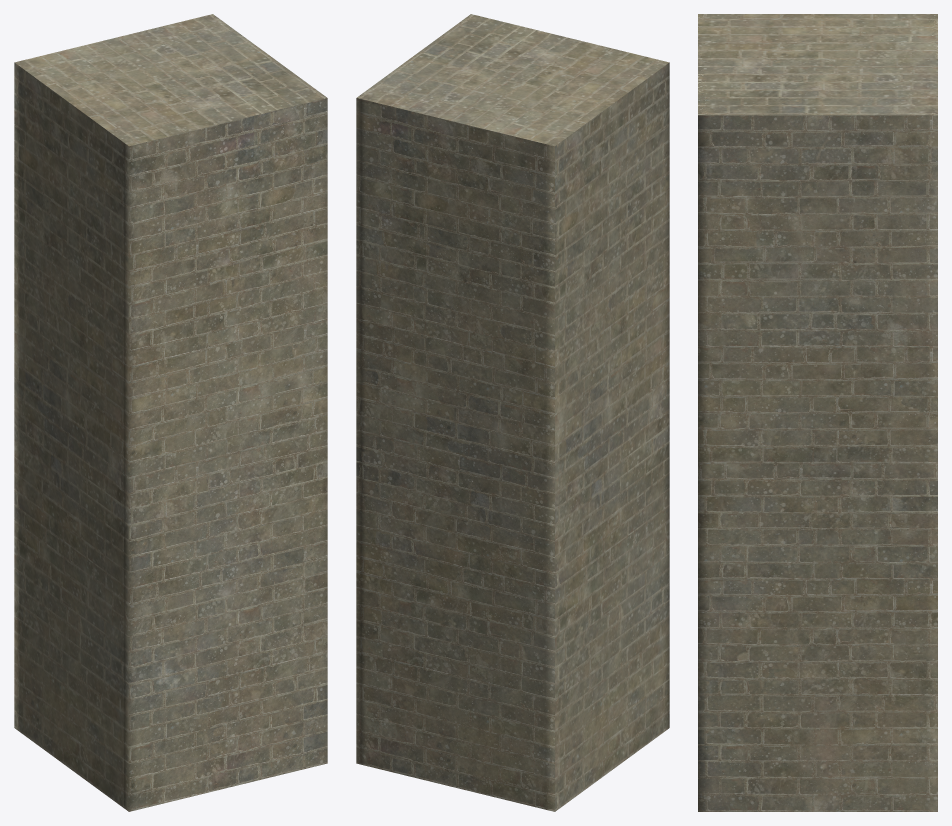
File: SM_WallColumn01_LOD0_002.glb
3 renders of one model, left to right at view 1: azimuth 30°, elevation 25°; view 2: azimuth 150°, elevation 25°; view 3: azimuth 270°, elevation 25°, orthographic. The views are drawn at different scales.
Parts seen in each view (by area): view 1: SM_WallColumn01_LOD0.002; view 2: SM_WallColumn01_LOD0.002; view 3: SM_WallColumn01_LOD0.002.
Part boxes in pixels (x1,y1,x2,y2): SM_WallColumn01_LOD0.002: (14,14,327,811); SM_WallColumn01_LOD0.002: (356,14,669,811); SM_WallColumn01_LOD0.002: (698,14,937,811).
Size of the model in its own units: 1.25 by 4 by 1.25.
Materials: 1 (1 with a texture image).
